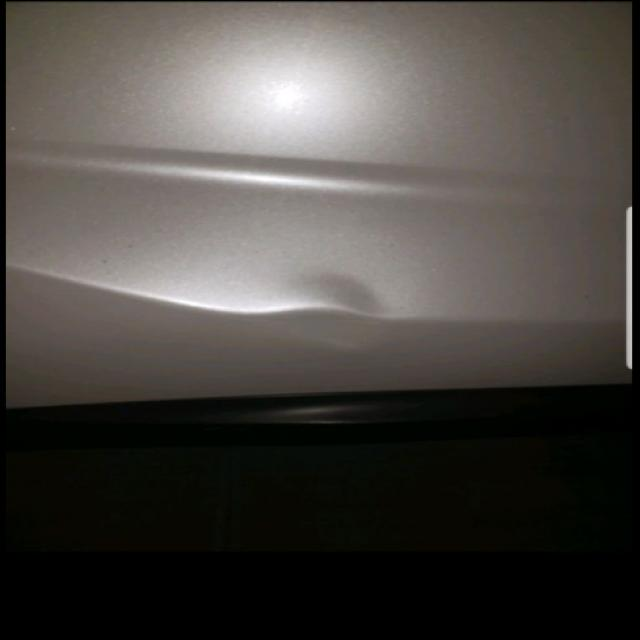dents: (258, 264, 427, 361)
